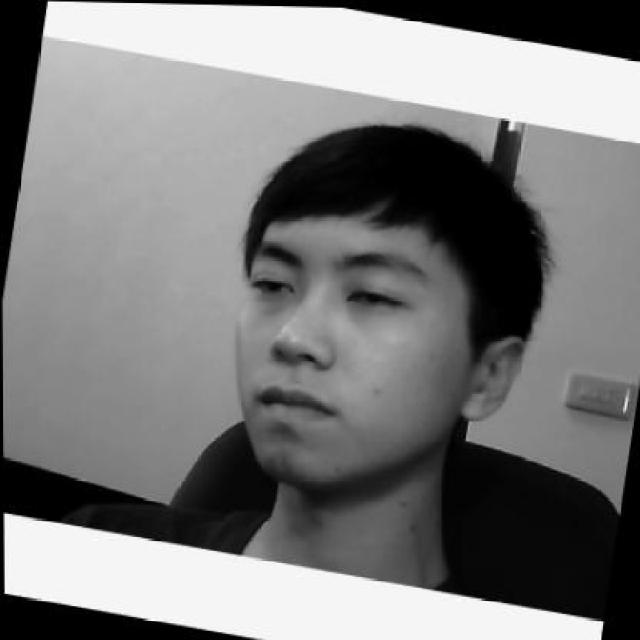inattentif: (210, 92, 556, 516)
